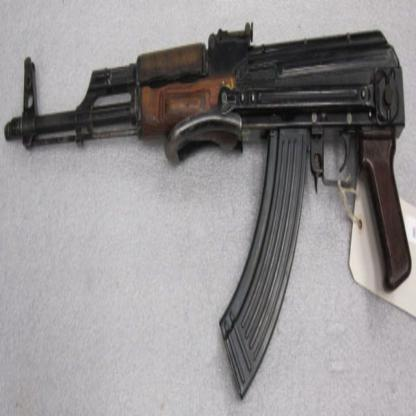Handgun: (4, 22, 412, 399)
